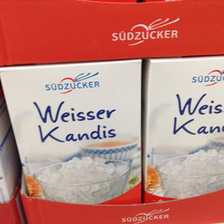tomato_sauce: (1, 59, 143, 205), (142, 57, 224, 204)
